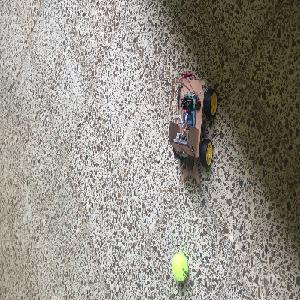Ball: (172, 254, 188, 281)
Robot: (169, 74, 218, 185)
